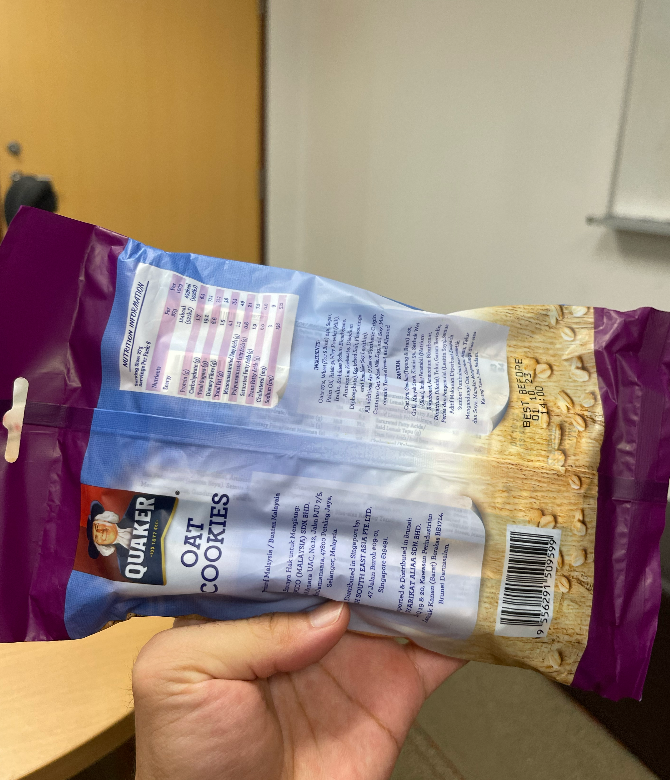cookies_100g-199g: (56, 294, 551, 624)
